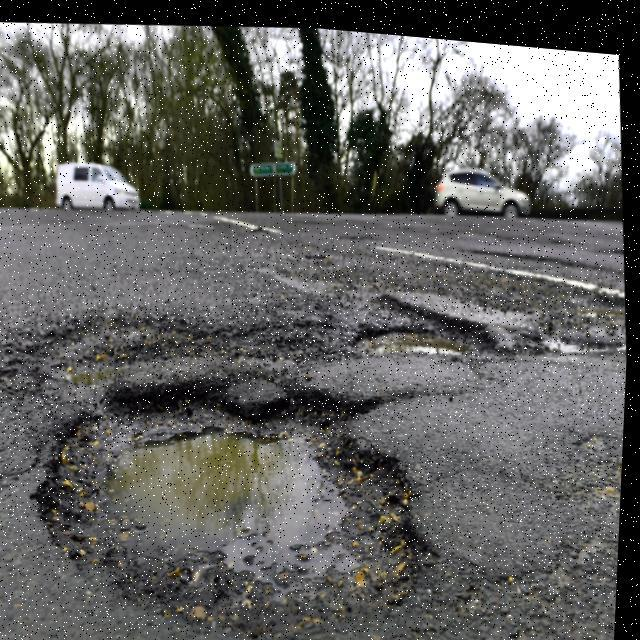pothole: (27, 343, 456, 640), (350, 291, 504, 370), (532, 292, 630, 350)
